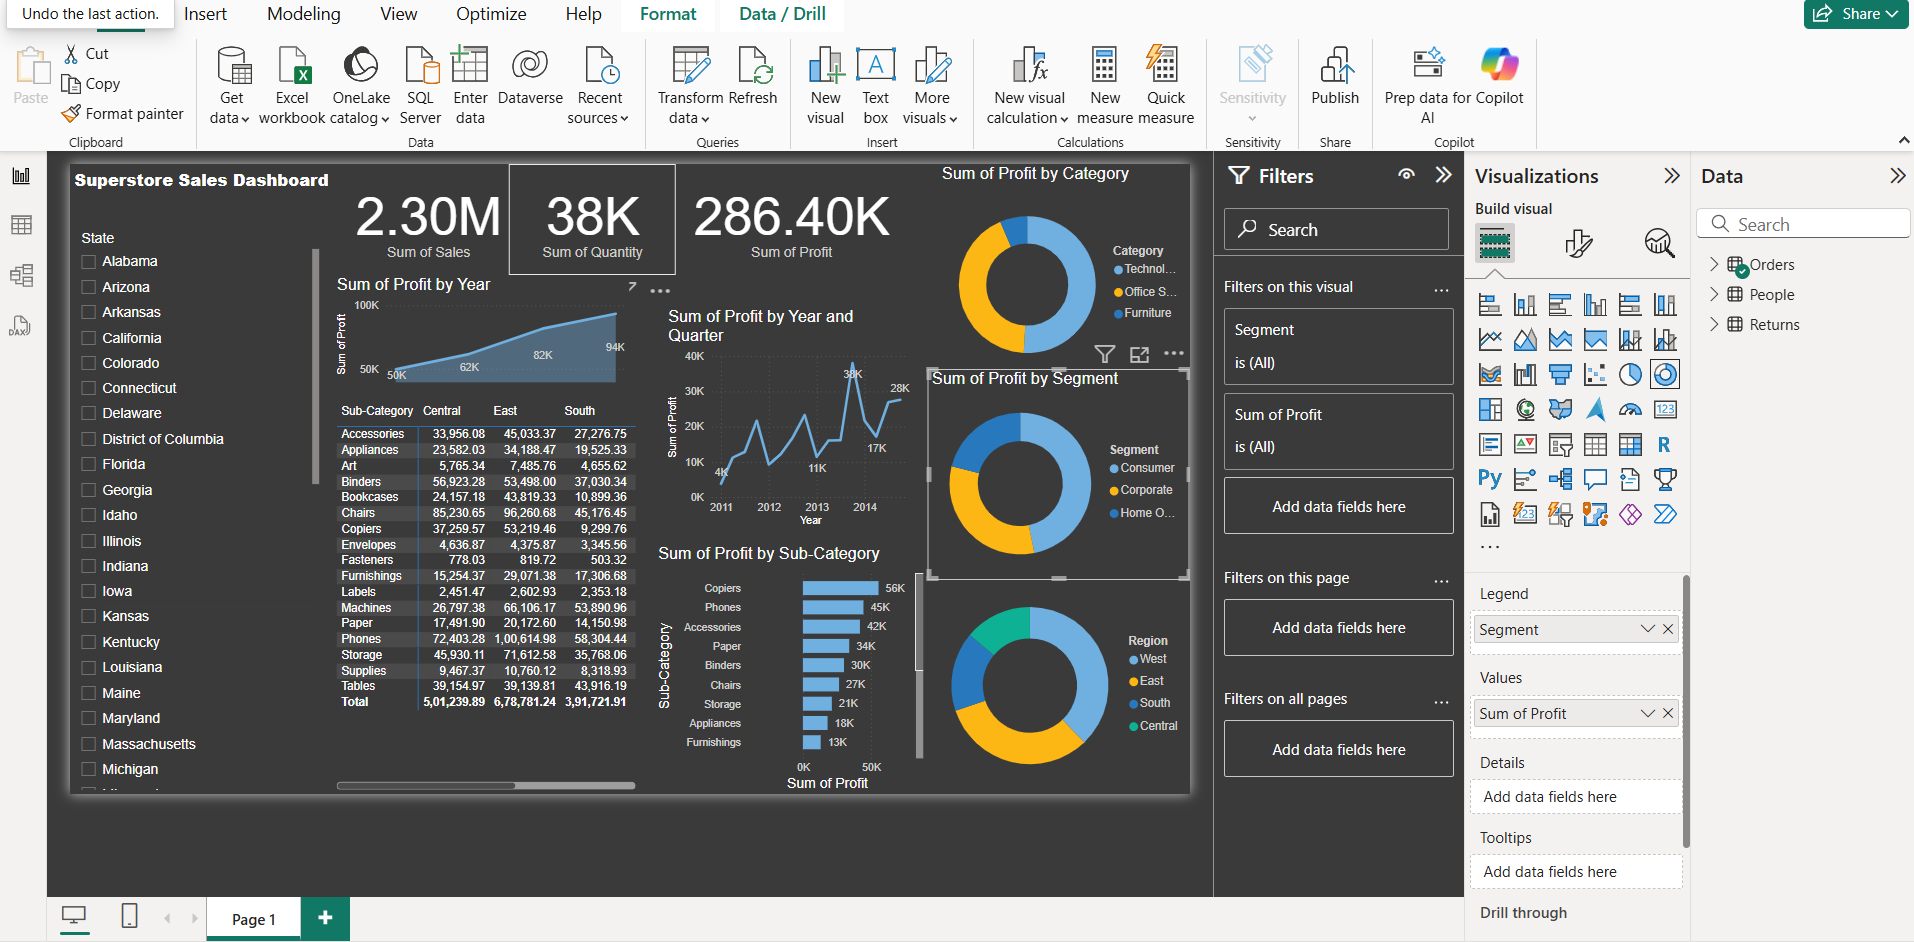

This screenshot's page, from the dashboard's own definition file:
{"tool":"powerbi","page":{"name":"Page 1","canvas":[1280,720],"ordinal":0},"visuals":[{"type":"donutChart","fields":{"Y":["Sum(Orders.Profit)"],"Category":["Orders.Category"]},"box":[990.7,0,289.5,255.2],"z":0},{"type":"donutChart","fields":{"Y":["Sum(Orders.Profit)"],"Category":["Orders.Segment"]},"box":[979.8,234.6,300.5,241.5],"z":1000},{"type":"donutChart","fields":{"Y":["Sum(Orders.Profit)"],"Category":["Orders.Region"]},"box":[979.8,451.5,300.5,269],"z":2000},{"type":"barChart","fields":{"Category":["Orders.Sub-Category"],"Y":["Sum(Orders.Profit)"]},"box":[666.9,433.6,312.9,286.8],"z":3000},{"type":"lineChart","fields":{"Category":["Orders.Order Date.Variation.Date Hierarchy.Year","Orders.Order Date.Variation.Date Hierarchy.Quarter","Orders.Order Date.Variation.Date Hierarchy.Month","Orders.Order Date.Variation.Date Hierarchy.Day"],"Y":["Sum(Orders.Profit)"]},"box":[677.9,164.7,289.5,255.2],"z":4000},{"type":"slicer","fields":{"Values":["Orders.State"]},"box":[0,71,290,649],"z":5000},{"type":"pivotTable","fields":{"Rows":["Orders.Sub-Category"],"Columns":["Orders.Region"],"Values":["Sum(Orders.Sales)"]},"box":[300.5,269,351.3,451.5],"z":6000},{"type":"card","fields":{"Values":["Sum(Orders.Sales)"]},"box":[289.5,0,240.1,127.6],"z":7000},{"type":"card","fields":{"Values":["Sum(Orders.Profit)"]},"box":[693,0,264,128],"z":8000},{"type":"card","fields":{"Values":["Sum(Orders.Quantity)"]},"box":[500.9,0,192.1,127.6],"z":9000},{"type":"stackedAreaChart","fields":{"Y":["Sum(Orders.Profit)"],"Category":["Orders.Order Date.Variation.Date Hierarchy.Year"]},"box":[300.5,127.6,338.9,127.6],"z":10000},{"type":"textbox","box":[0,0,324,54],"z":11000}]}

Visuals, with their boxes on the page's 1280x720 design canvas (x1, y1, x2, y2). These are canvas units, not pixel positions in the 1914x942 screenshot, which may show the page scaled, cropped or inside an application window:
donutChart - Sum(Orders.Profit) x Orders.Category: <region>991, 0, 1280, 255</region>
donutChart - Sum(Orders.Profit) x Orders.Segment: <region>980, 235, 1280, 476</region>
donutChart - Sum(Orders.Profit) x Orders.Region: <region>980, 452, 1280, 720</region>
barChart - Orders.Sub-Category x Sum(Orders.Profit): <region>667, 434, 980, 720</region>
lineChart - Orders.Order Date.Variation.Date Hierarchy.Year x Orders.Order Date.Variation.Date Hierarchy.Quarter: <region>678, 165, 967, 420</region>
slicer - Orders.State: <region>0, 71, 290, 720</region>
pivotTable - Orders.Sub-Category x Orders.Region: <region>300, 269, 652, 720</region>
card - Sum(Orders.Sales): <region>290, 0, 530, 128</region>
card - Sum(Orders.Profit): <region>693, 0, 957, 128</region>
card - Sum(Orders.Quantity): <region>501, 0, 693, 128</region>
stackedAreaChart - Sum(Orders.Profit) x Orders.Order Date.Variation.Date Hierarchy.Year: <region>300, 128, 639, 255</region>
textbox: <region>0, 0, 324, 54</region>
